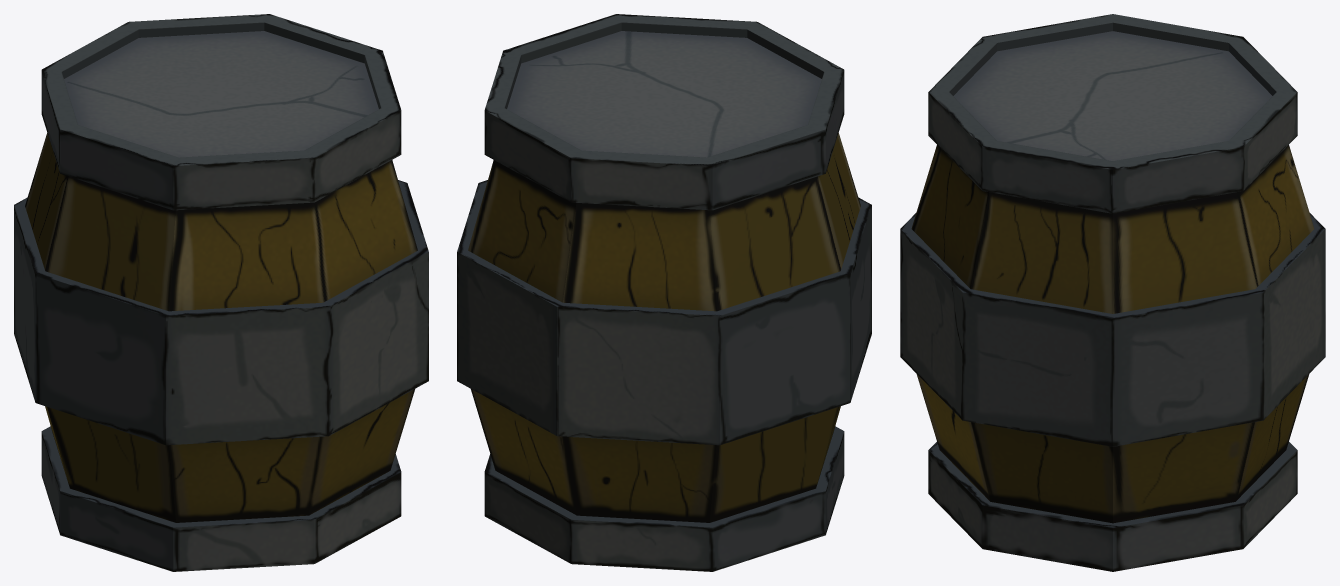
Rendered from barrel.fbx.
3 views of the same model, side by side, from view 1: azimuth 30°, elevation 25°; view 2: azimuth 150°, elevation 25°; view 3: azimuth 270°, elevation 25° (orthographic).
Visible parts, largest first — view 1: Cylinder.001; view 2: Cylinder.001; view 3: Cylinder.001.
Boxes of the visible parts, x1,y1,x2,y2 form: Cylinder.001: (14, 14, 428, 571); Cylinder.001: (457, 14, 871, 571); Cylinder.001: (900, 14, 1325, 571).
Bounding box in the file's own units: 168 × 175 × 168.
